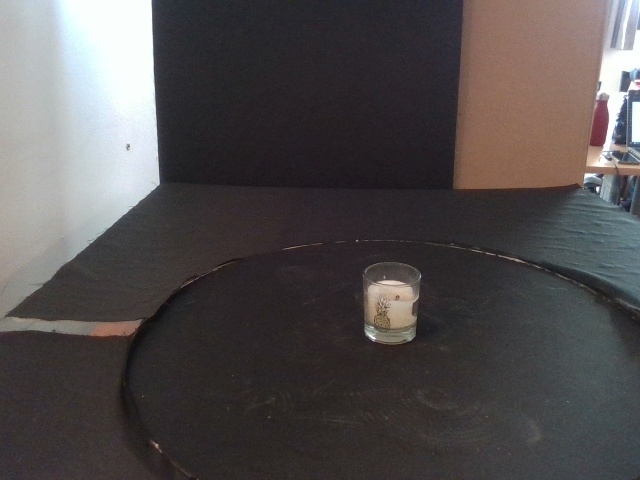candle: (362, 261, 422, 345)
